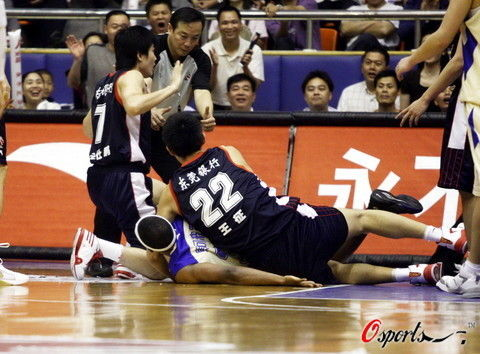fall: (128, 104, 458, 291)
